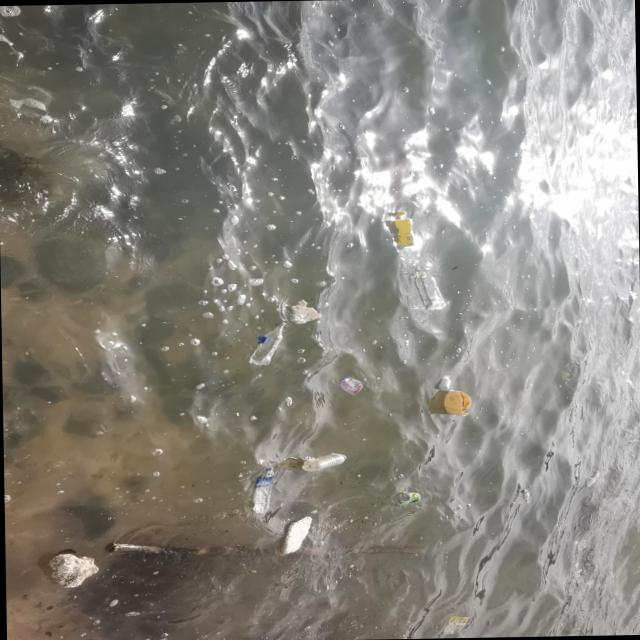can: (393, 492, 419, 504)
foam: (46, 552, 100, 589), (278, 515, 312, 555), (288, 299, 320, 325)
plastic: (247, 323, 284, 364), (412, 270, 446, 310), (249, 468, 274, 514), (300, 453, 346, 471), (392, 212, 414, 246), (436, 375, 448, 390)
plastic bottle: (442, 389, 470, 416), (441, 616, 469, 634), (585, 471, 600, 486), (558, 369, 569, 382), (520, 488, 530, 502)
unknow: (336, 376, 362, 394)
